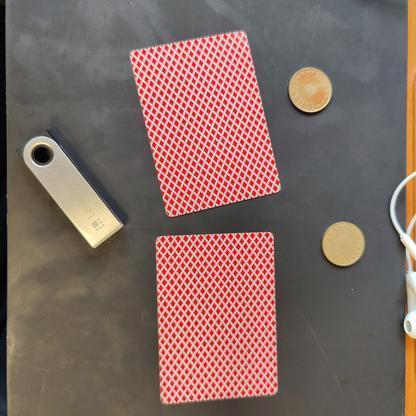card: (125, 26, 289, 222), (142, 226, 288, 408)
